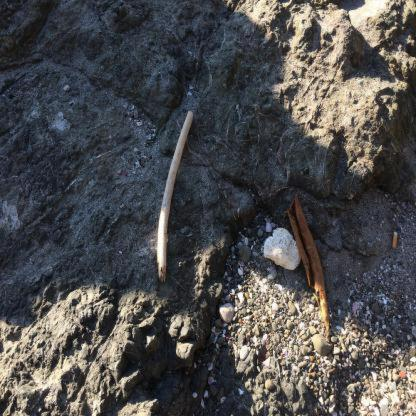Cigarette: (393, 231, 398, 248)
Styrofoam piece: (264, 228, 301, 270)
